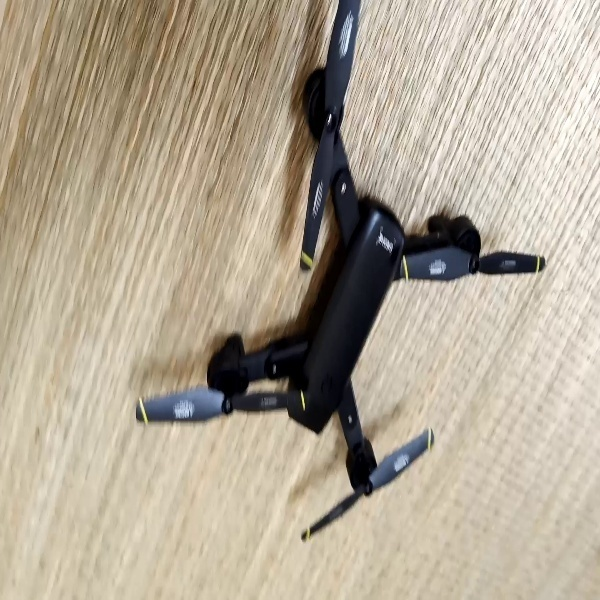drone: (134, 2, 555, 550)
